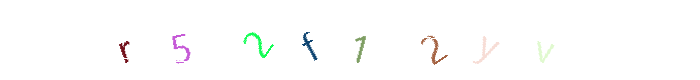1: (301, 0, 381, 80)
2: (218, 0, 298, 80), (310, 0, 390, 80)
5: (141, 0, 221, 80)
F: (269, 0, 349, 80)
R: (84, 0, 164, 80)
V: (398, 0, 478, 80)
Y: (389, 0, 469, 80)
